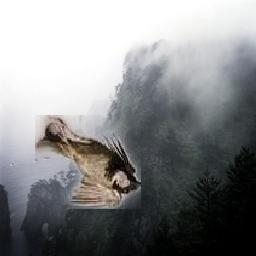Sparrow: (35, 115, 141, 209)
